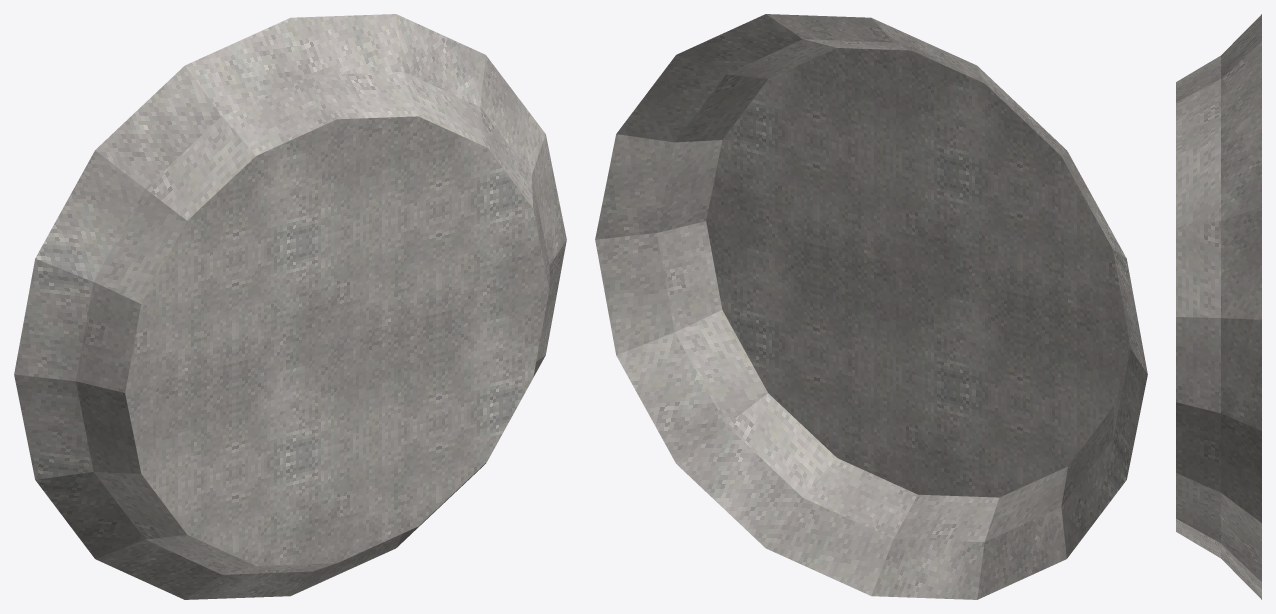
File: jc-gj-168-geode.glb
The picture shows the model from 3 angles, left to right: view 1: azimuth 30°, elevation 25°; view 2: azimuth 150°, elevation 25°; view 3: azimuth 270°, elevation 25°; orthographic projection. The views are drawn at different scales.
Visible parts, largest first — view 1: Node; view 2: Node; view 3: Node.
Boxes of the visible parts, left/top/right/bottom form: Node: left=14, top=14, right=566, bottom=599; Node: left=595, top=14, right=1147, bottom=599; Node: left=1176, top=14, right=1261, bottom=599.
Bounding box in the file's own units: 0.5999 × 0.5999 × 0.0879.
Materials: 1 (1 with a texture image).
